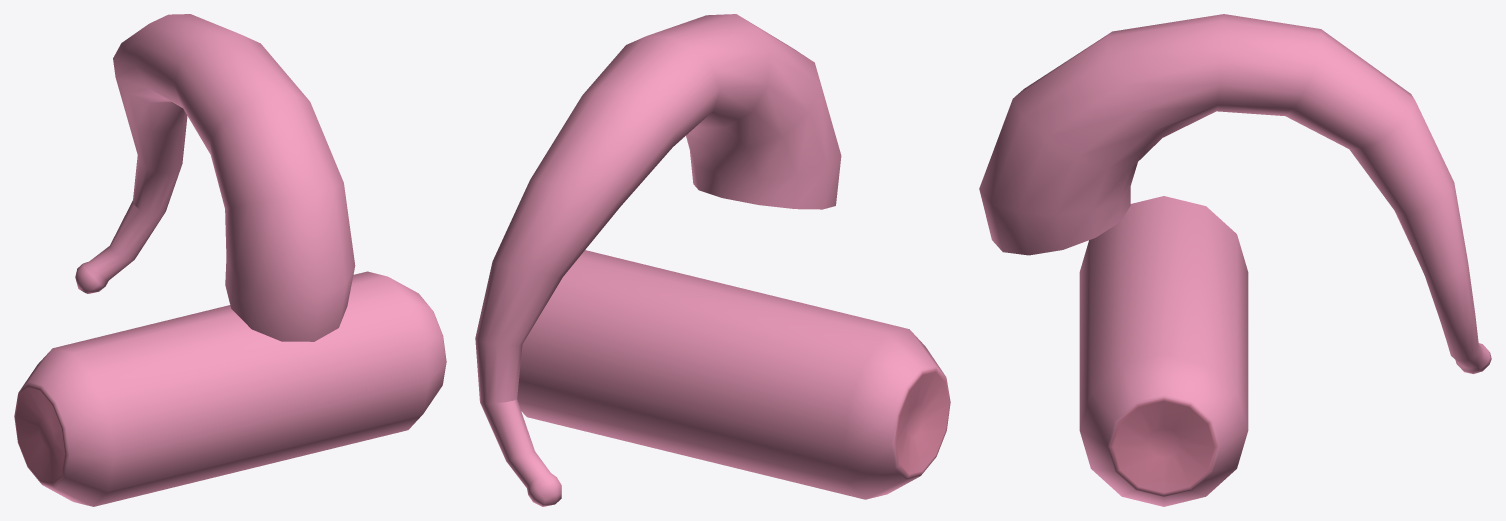
Rendered from mabu_ear.fbx.
3 views of the same model, side by side, from view 1: azimuth 30°, elevation 25°; view 2: azimuth 150°, elevation 25°; view 3: azimuth 270°, elevation 25° (orthographic). The views are drawn at different scales.
Visible parts, largest first — view 1: mabu_ear; view 2: mabu_ear; view 3: mabu_ear.
Part boxes in pixels (box(x1,y1,x2,y2)): mabu_ear: box(14, 14, 446, 506); mabu_ear: box(475, 14, 950, 506); mabu_ear: box(979, 14, 1491, 506).
Bounding box in the file's own units: 126 × 128 × 143.
